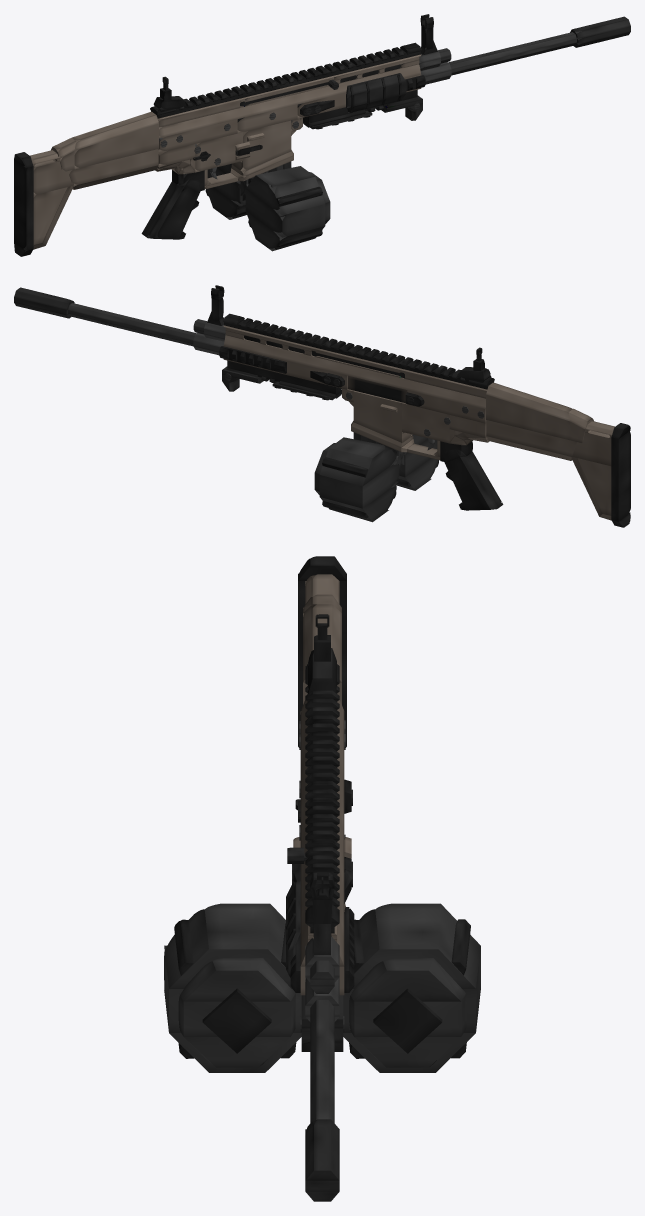
The model's file is fnscarhamr.obj.
3 renders of one model, top to bottom at view 1: azimuth 30°, elevation 25°; view 2: azimuth 150°, elevation 25°; view 3: azimuth 270°, elevation 25°, orthographic. The views are drawn at different scales.
Visible parts, largest first — view 1: gunModel66, gunModel260, gunModel217, gunModel264, gunModel234, gunModel2, gunModel131, gunModel219, gunModel221, gunModel3, defaultBarrelModel1, gunModel224 (+23 smaller); view 2: gunModel66, gunModel253, gunModel217, gunModel257, gunModel2, gunModel234, gunModel219, gunModel131, gunModel3, gunModel221, defaultBarrelModel1, gunModel224 (+22 smaller); view 3: gunModel253, gunModel260, gunModel254, gunModel261, gunModel66, defaultBarrelModel1, gunModel259, gunModel266, gunModel255, gunModel262, gunModel208, gunModel263 (+8 smaller).
Boxes of the visible parts, <box> form: gunModel66: <box>158,64,420,138</box>; gunModel260: <box>246,166,325,215</box>; gunModel217: <box>74,123,158,169</box>; gunModel264: <box>245,187,325,237</box>; gunModel234: <box>14,157,33,250</box>; gunModel2: <box>232,120,291,171</box>; gunModel131: <box>152,49,420,118</box>; gunModel219: <box>69,149,158,185</box>; gunModel221: <box>72,111,158,150</box>; gunModel3: <box>190,130,242,172</box>; defaultBarrelModel1: <box>448,31,581,69</box>; gunModel224: <box>33,187,67,244</box>; gunModel66: <box>224,335,485,408</box>; gunModel253: <box>319,437,398,486</box>; gunModel217: <box>486,394,570,440</box>; gunModel257: <box>319,464,399,508</box>; gunModel2: <box>353,390,412,442</box>; gunModel234: <box>611,431,630,521</box>; gunModel219: <box>486,420,576,456</box>; gunModel131: <box>224,320,493,389</box>; gunModel3: <box>402,402,449,443</box>; gunModel221: <box>486,382,572,421</box>; defaultBarrelModel1: <box>68,303,196,340</box>; gunModel224: <box>577,458,611,515</box>; gunModel253: <box>352,903,480,988</box>; gunModel260: <box>164,903,292,988</box>; gunModel254: <box>349,958,465,1001</box>; gunModel261: <box>179,958,295,1001</box>; gunModel66: <box>300,700,344,966</box>; defaultBarrelModel1: <box>310,1000,334,1122</box>; gunModel259: <box>373,988,442,1053</box>; gunModel266: <box>202,988,271,1053</box>; gunModel255: <box>349,993,466,1036</box>; gunModel262: <box>178,994,295,1036</box>; gunModel208: <box>305,1119,339,1180</box>; gunModel263: <box>184,1037,290,1067</box>.
Size of the model in its own units: 28.85 by 7.72 by 6.5.
